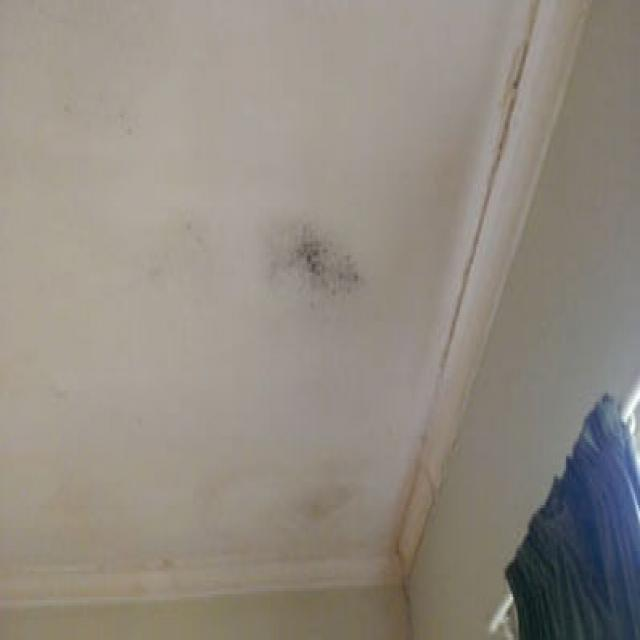Crack: (453, 26, 538, 312)
